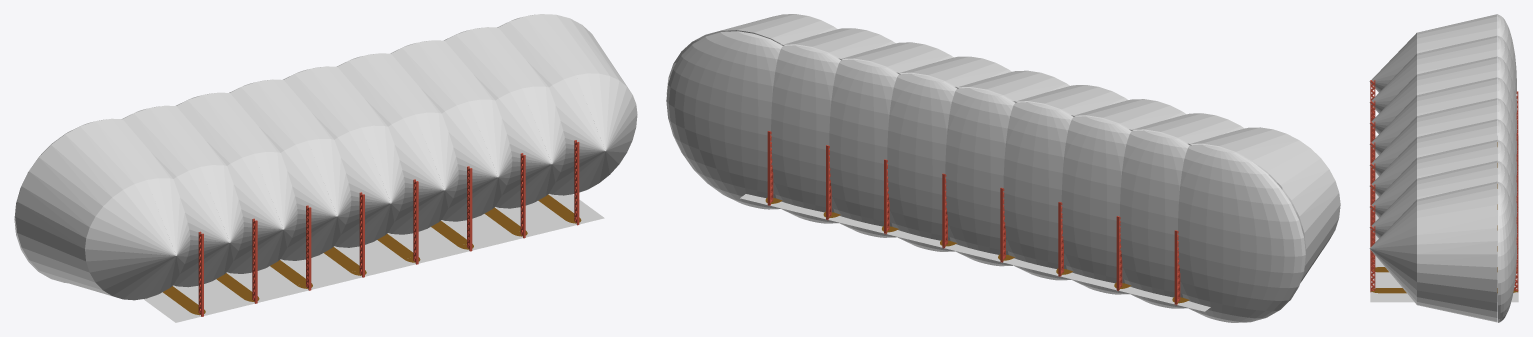
File: cargadero.dae
3 renders of one model, left to right at view 1: azimuth 30°, elevation 25°; view 2: azimuth 150°, elevation 25°; view 3: azimuth 270°, elevation 25°, orthographic. The views are drawn at different scales.
Visible parts, largest first — view 1: Cone_004, Cone_001, Plano, Cone_003, Cone_000, Cone_008, Cone_006, Cone_009, Cone_007, Cone_005, Cubo_006, Cubo_007 (+14 smaller); view 2: Cone_004, Cone_001, Cone_009, Cone_003, Cone_006, Cone_008, Cone_007, Cone_000, Cone_005, Plano; view 3: Cone_001, Cone_004, Cone_005, Cone_006, Cone_000, Cone_009, Cone_007, Cone_008, Cone_003, Plano, Cubo_010, Plano_002 (+8 smaller).
Part boxes in pixels (bbox=[...]): Cone_004: bbox=[14, 118, 197, 300]; Cone_001: bbox=[497, 14, 637, 195]; Plano: bbox=[143, 194, 604, 322]; Cone_003: bbox=[337, 53, 458, 234]; Cone_000: bbox=[444, 27, 565, 208]; Cone_008: bbox=[176, 92, 297, 273]; Cone_006: bbox=[283, 66, 404, 247]; Cone_009: bbox=[85, 105, 243, 287]; Cone_007: bbox=[229, 79, 351, 260]; Cone_005: bbox=[390, 40, 513, 221]; Cubo_006: bbox=[413, 179, 418, 264]; Cubo_007: bbox=[467, 166, 472, 251]; Cone_004: bbox=[1178, 127, 1340, 322]; Cone_001: bbox=[666, 14, 838, 209]; Cone_009: bbox=[1119, 113, 1282, 308]; Cone_003: bbox=[887, 56, 1013, 251]; Cone_006: bbox=[945, 70, 1071, 266]; Cone_008: bbox=[1061, 99, 1187, 294]; Cone_007: bbox=[1003, 85, 1129, 280]; Cone_000: bbox=[771, 28, 897, 223]; Cone_005: bbox=[829, 42, 955, 237]; Plano: bbox=[740, 194, 1210, 311]; Cone_001: bbox=[1369, 181, 1516, 322]; Cone_004: bbox=[1369, 14, 1516, 92]; Cone_005: bbox=[1370, 140, 1516, 217]; Cone_006: bbox=[1369, 98, 1516, 175]; Cone_000: bbox=[1369, 160, 1516, 238]; Cone_009: bbox=[1369, 35, 1516, 113]; Cone_007: bbox=[1369, 77, 1516, 154]; Cone_008: bbox=[1369, 56, 1516, 134]; Cone_003: bbox=[1369, 119, 1516, 196]; Plano: bbox=[1370, 135, 1518, 302]; Cubo_010: bbox=[1370, 226, 1375, 292]; Plano_002: bbox=[1371, 288, 1517, 293].
Bounding box in the file's own units: 55 × 15.11 × 14.28.
